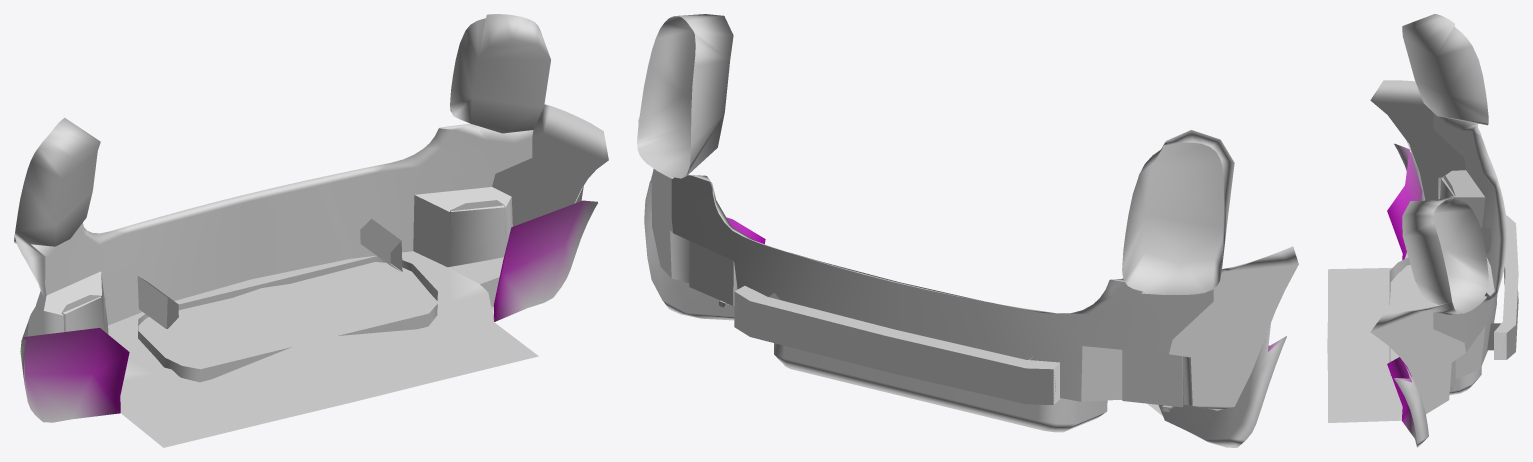
Rendered from Car_Mini_CountrymanJCW_2017_BumperChassisR_SetD_AltC.fbx.
3 renders of one model, left to right at view 1: azimuth 30°, elevation 25°; view 2: azimuth 150°, elevation 25°; view 3: azimuth 270°, elevation 25°, orthographic. The views are drawn at different scales.
Visible parts, largest first — view 1: BumperChassisR 6; view 2: BumperChassisR 6; view 3: BumperChassisR 6.
Part boxes in pixels (bbox=[...]): BumperChassisR 6: bbox=[14, 14, 608, 447]; BumperChassisR 6: bbox=[637, 14, 1298, 447]; BumperChassisR 6: bbox=[1327, 14, 1518, 447].
Bounding box in the file's own units: 1.7 × 0.8115 × 0.5877.
